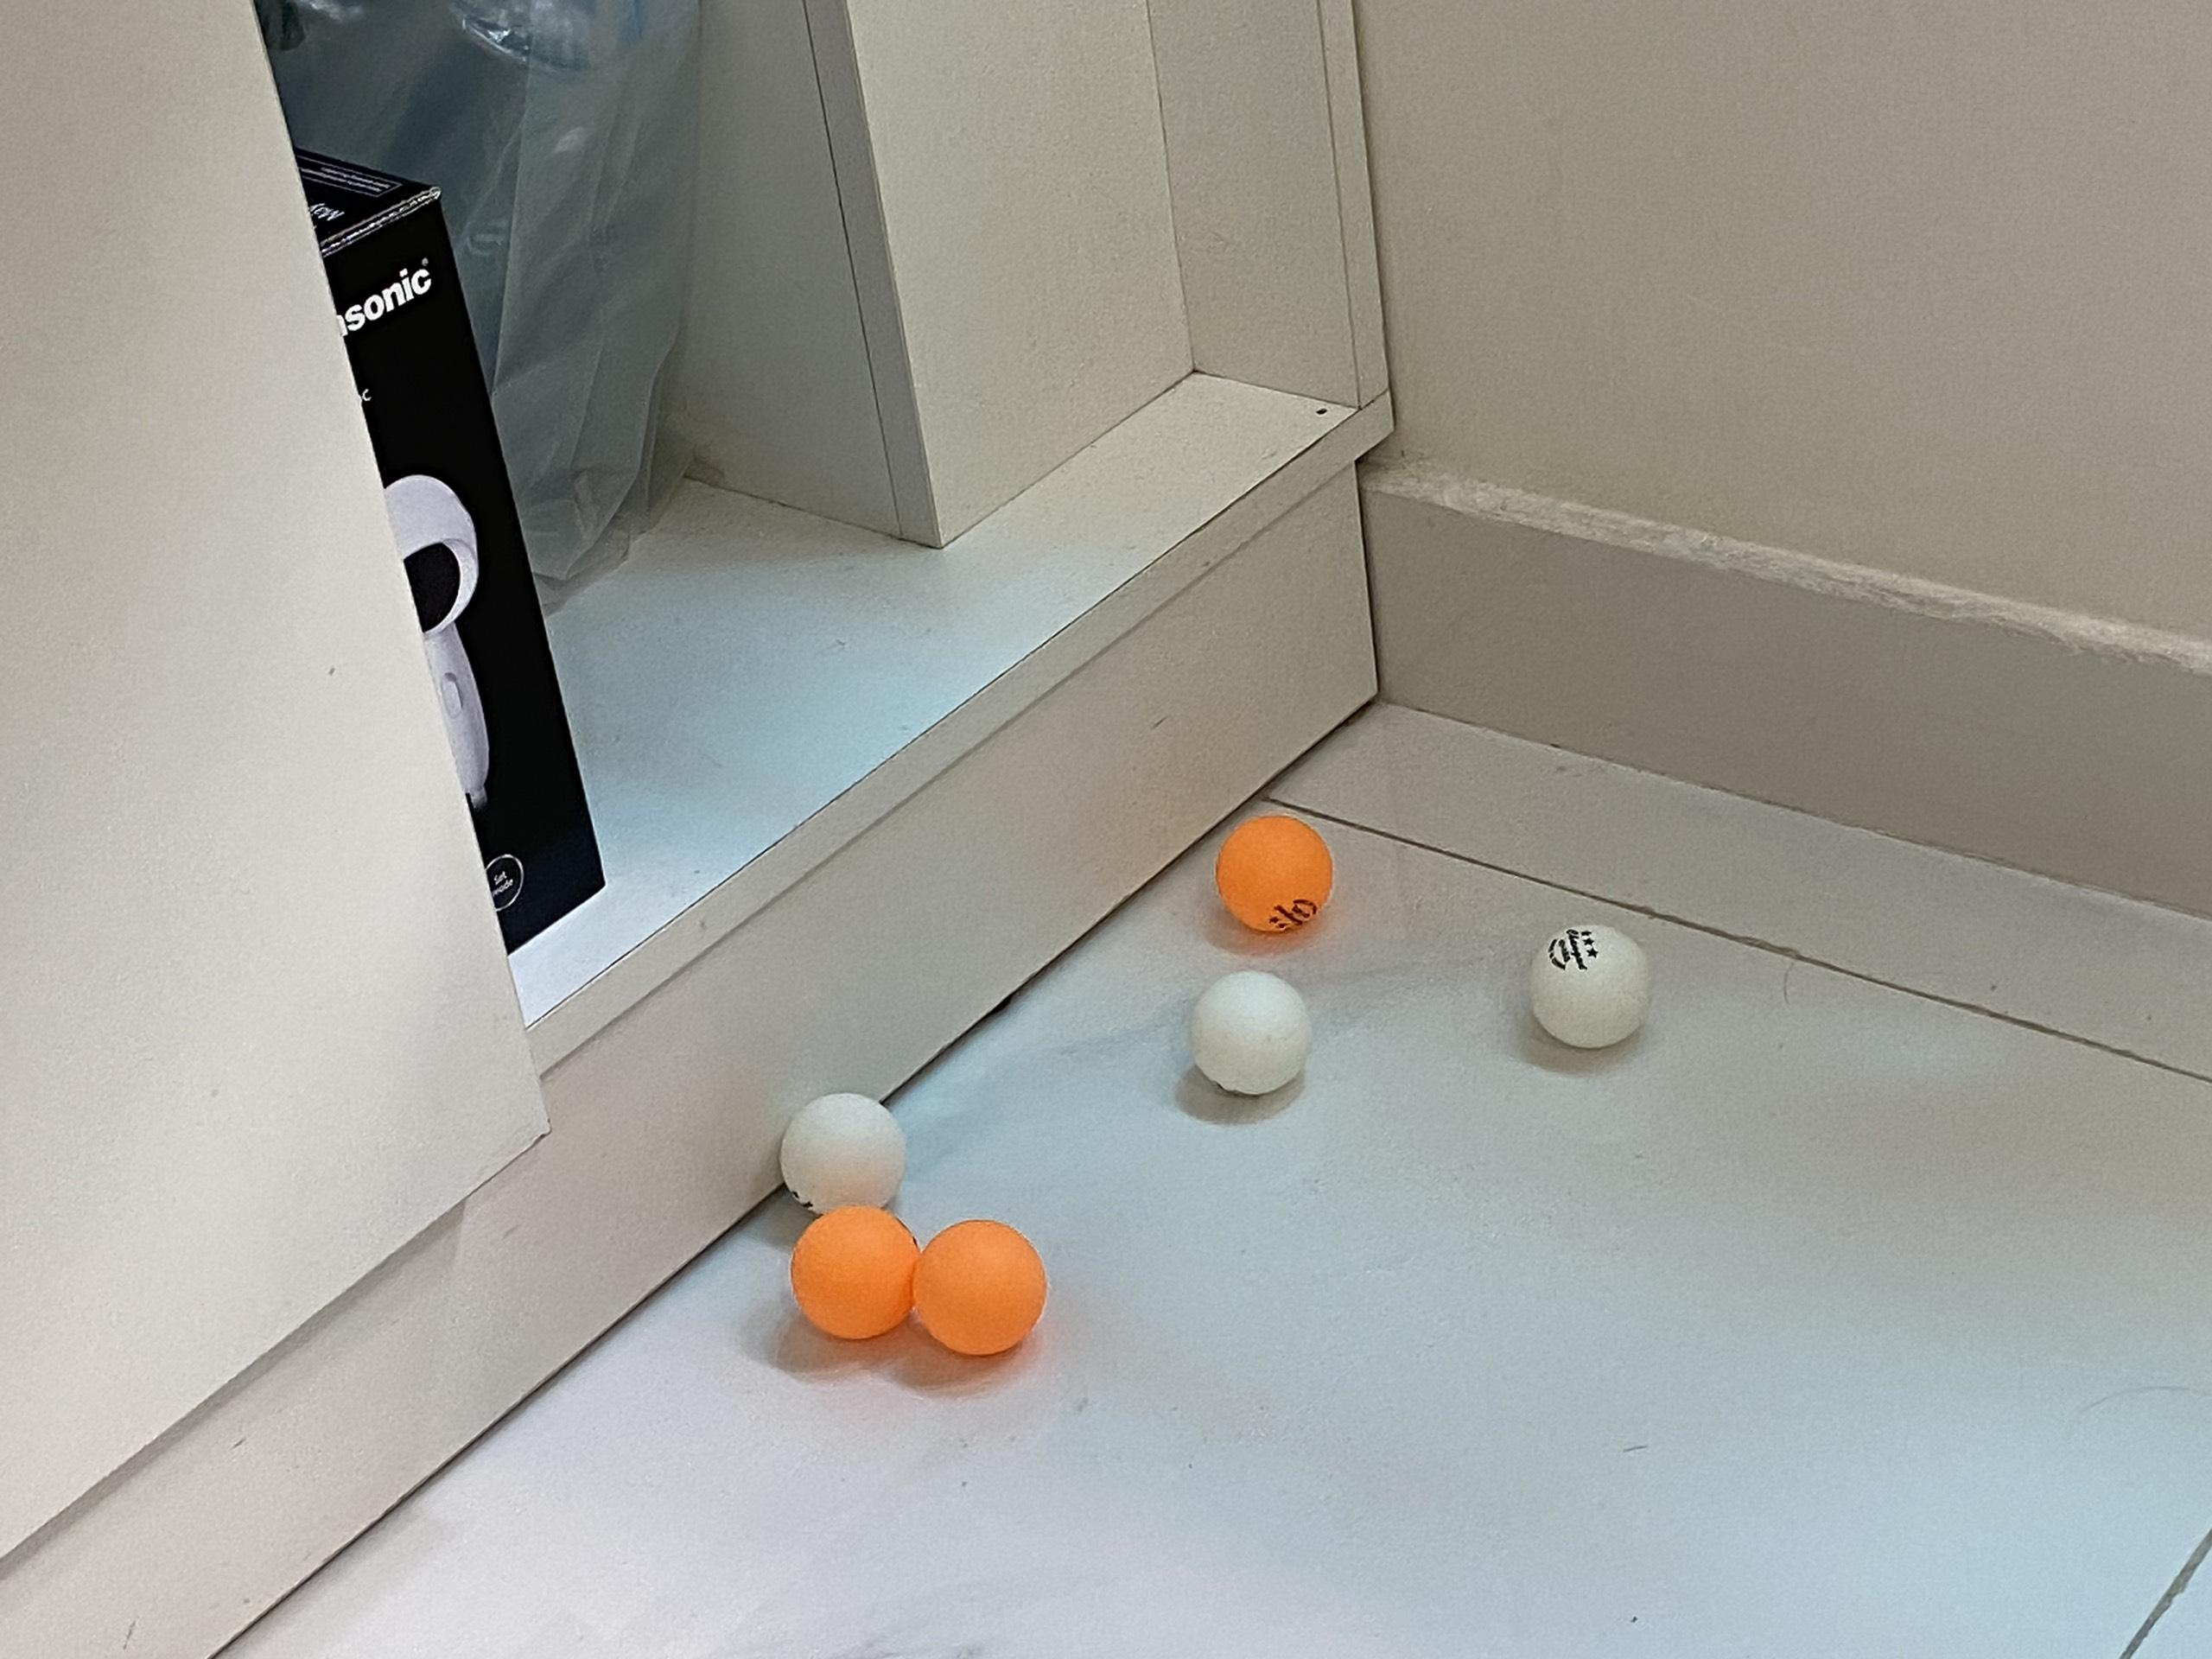oball: (914, 1223, 1049, 1359), (1188, 964, 1318, 1101), (794, 1208, 923, 1340), (782, 1098, 907, 1220), (1529, 927, 1653, 1047), (1221, 812, 1334, 931)
